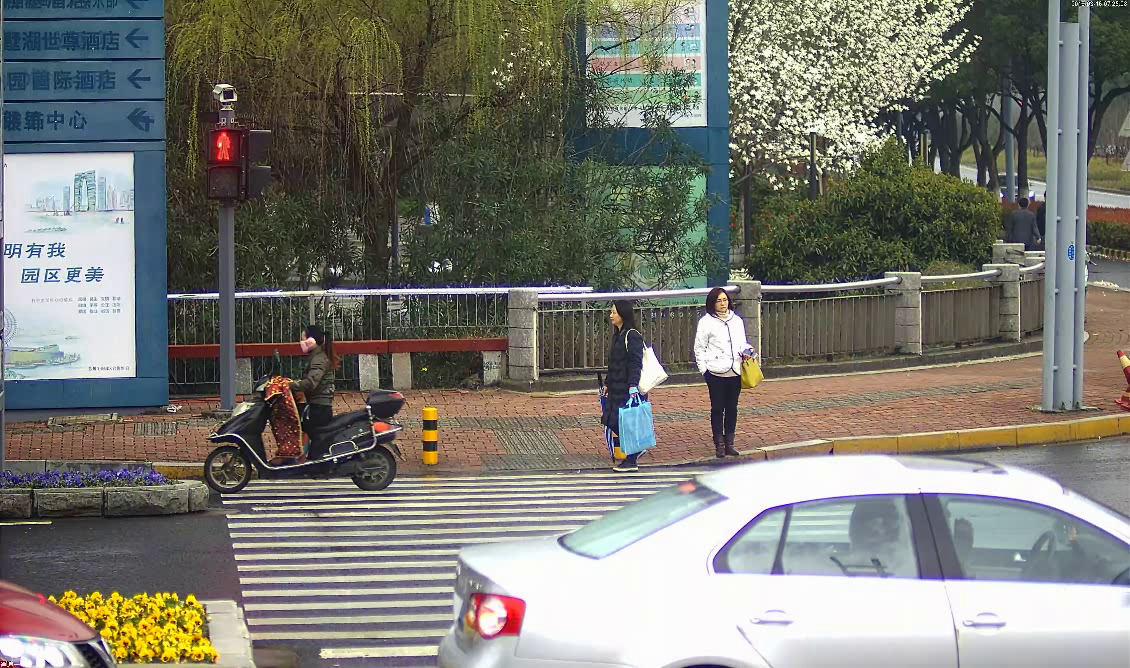person: (690, 285, 765, 465), (594, 295, 658, 475), (279, 318, 346, 486), (1004, 194, 1045, 255)
